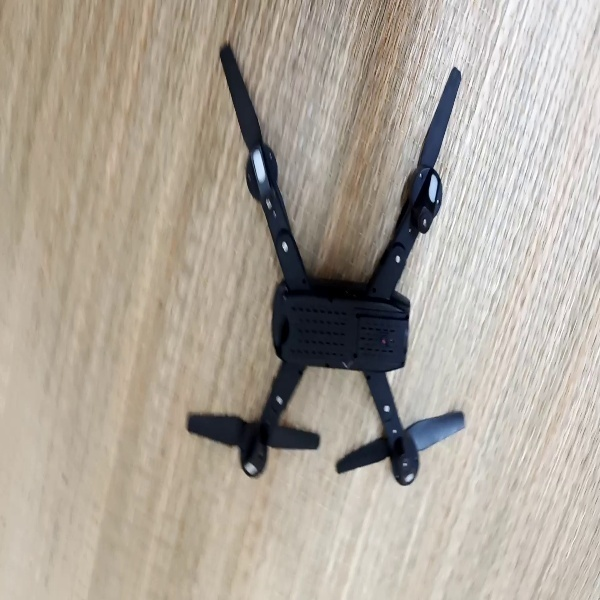drone: (184, 41, 469, 490)
